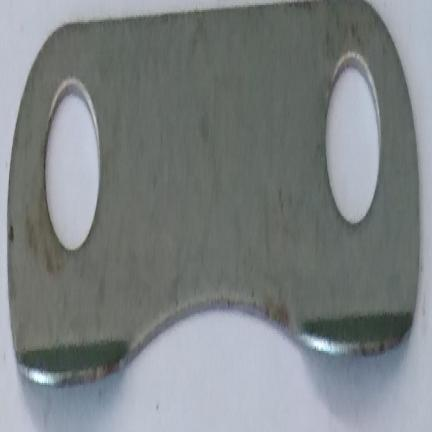besi_tidak_karat: (7, 0, 420, 384)
